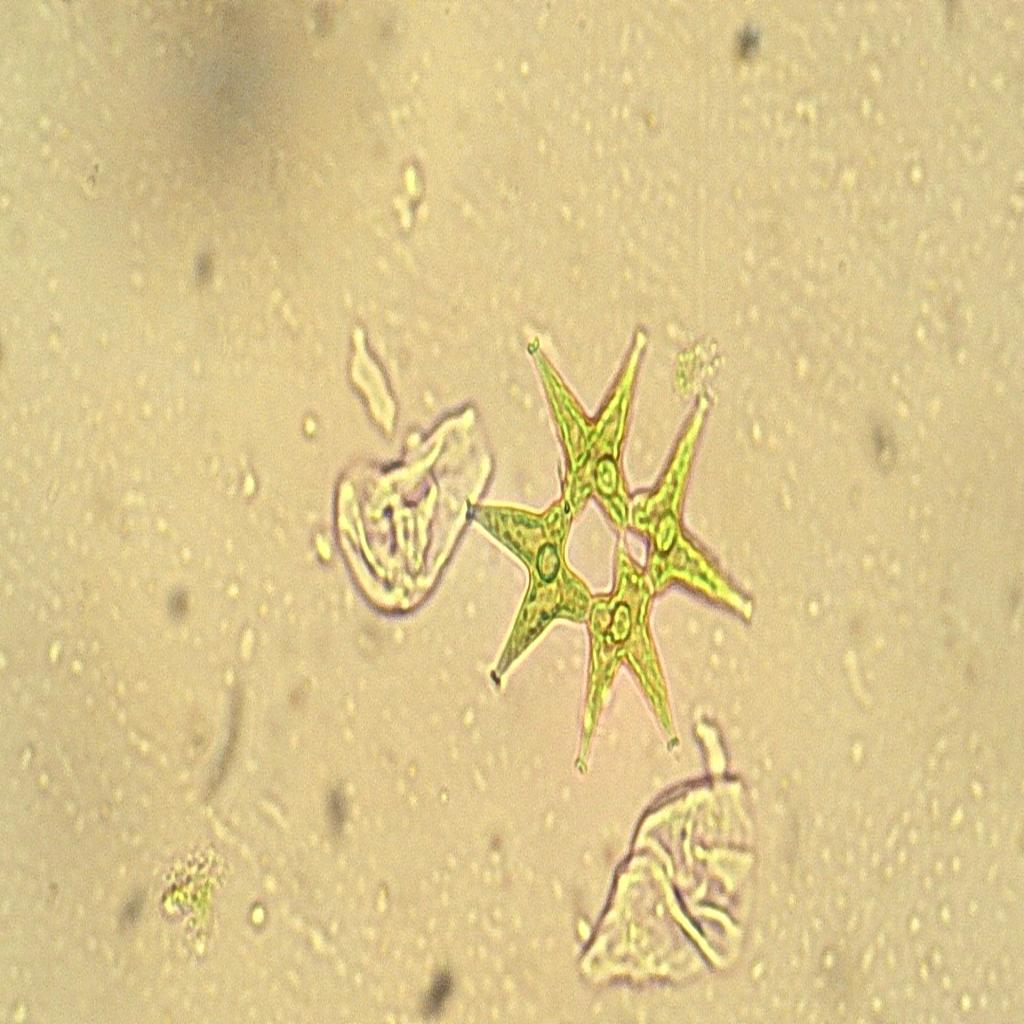Pediastrum_CF: (444, 324, 776, 786)
